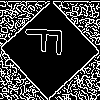F: (25, 25, 71, 57)
